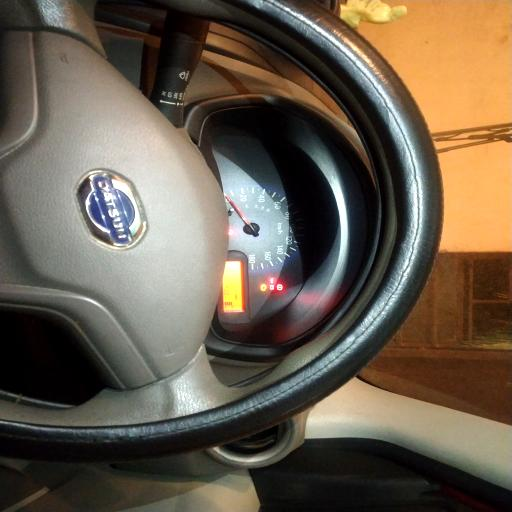brake_system_fault: (277, 284, 283, 291)
check_engine: (261, 284, 267, 292)
vehicle_charging: (270, 284, 274, 290)
